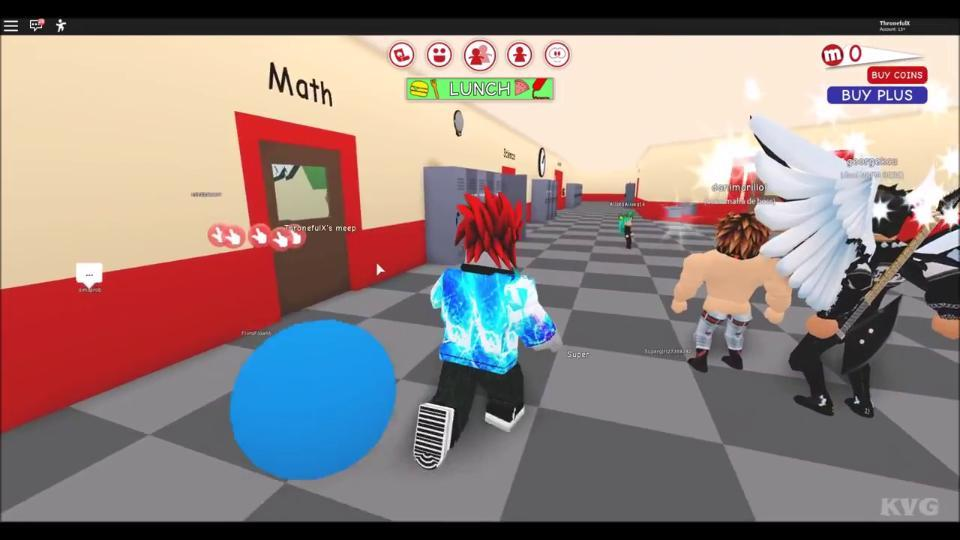Character: (750, 112, 960, 418), (413, 185, 562, 468), (672, 214, 792, 370), (618, 210, 637, 252)
